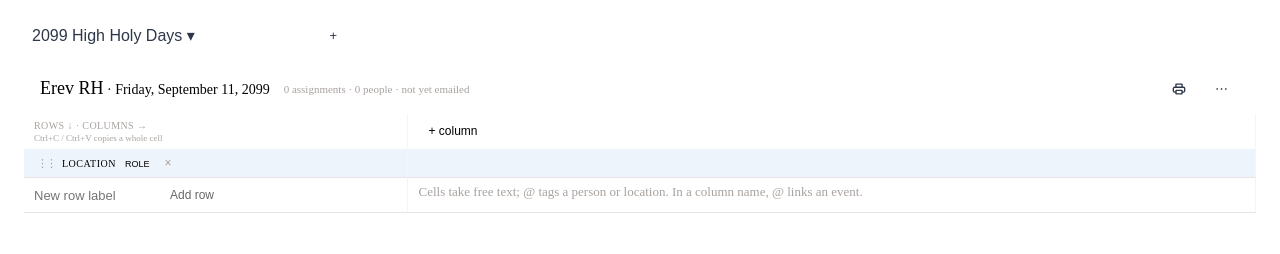
it: SchedulingSheets — workbook picker › SSWP-1: a mousedown outside the picker closes it
This screenshot has width=1280, height=254.
Click the button with test id "workbook-picker": coordinates (113, 36) left=24, top=20, right=203, bottom=51
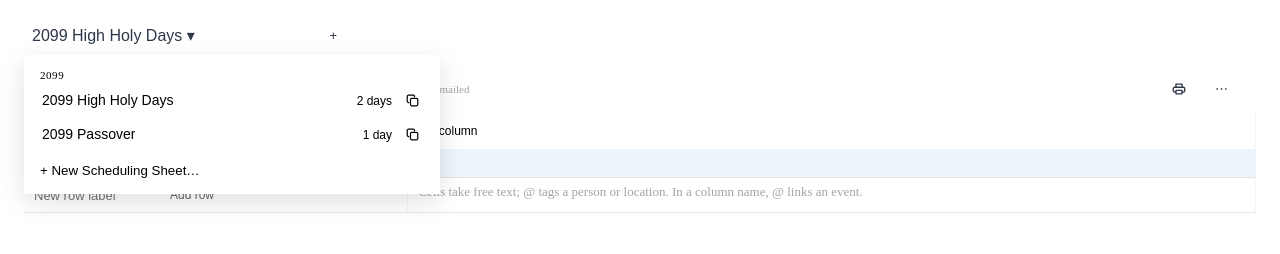
expect the element with test id "workbook-menu" is shown: met, box left=24, top=55, right=440, bottom=194
Press the mouse on the element that starts with "2099 High Holy Days": coordinates (640, 122) left=8, top=8, right=1272, bottom=237
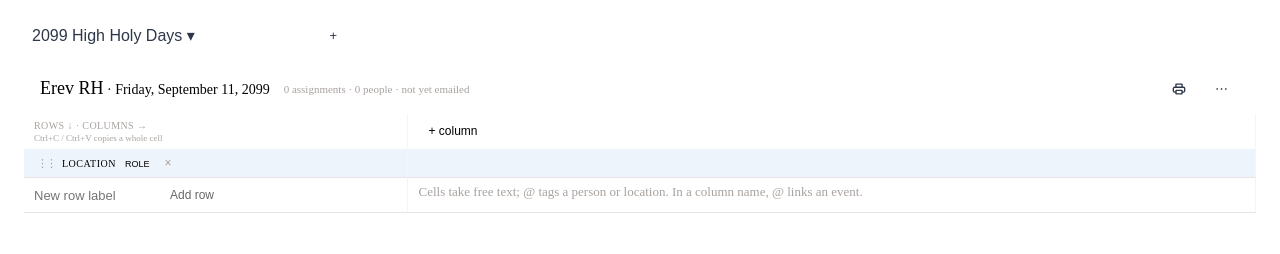
expect the element with test id "workbook-menu" is gone: met
